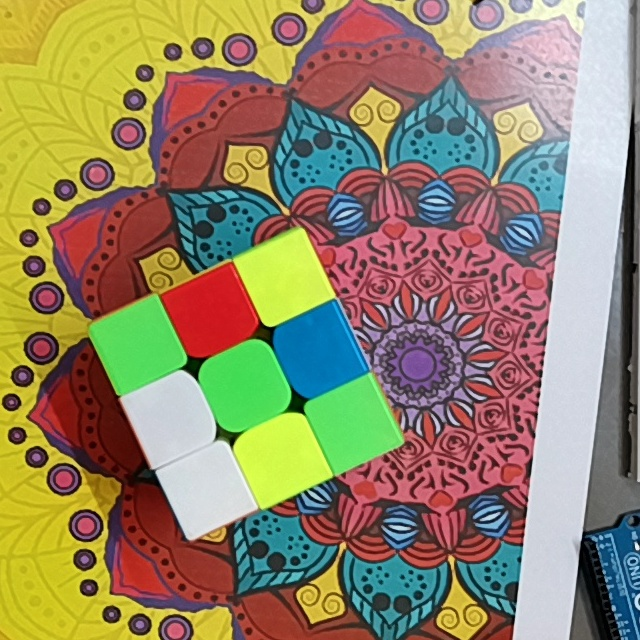tile: (291, 323, 346, 379), (143, 389, 199, 444), (217, 359, 274, 413), (182, 287, 237, 341), (255, 253, 312, 305), (180, 463, 234, 517), (253, 431, 307, 485), (327, 397, 381, 451), (114, 315, 166, 371)
